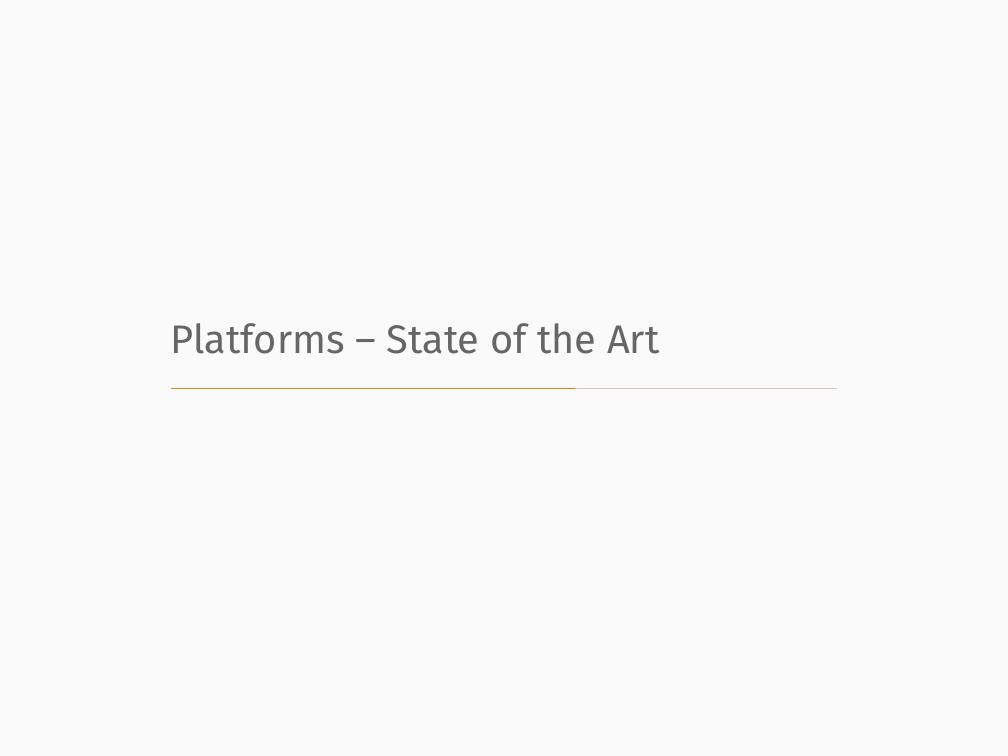Title: (160, 312, 684, 367)
